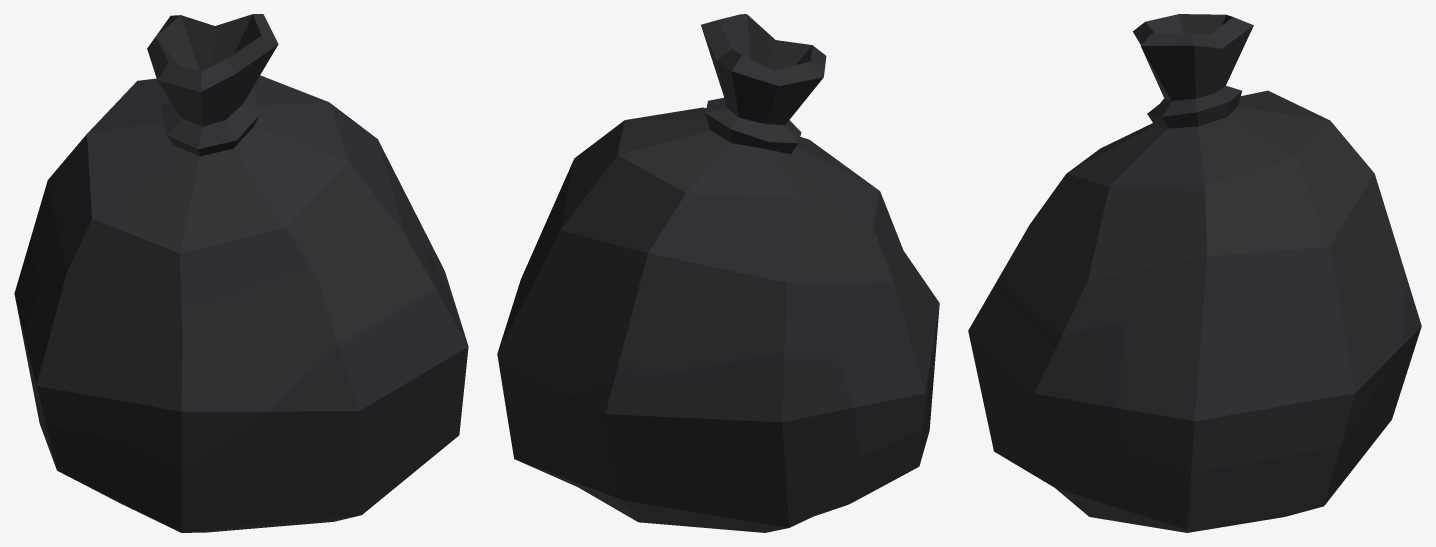
Rendered from SM_Prop_TrashBag_05.obj.
3 views of the same model, side by side, from view 1: azimuth 30°, elevation 25°; view 2: azimuth 150°, elevation 25°; view 3: azimuth 270°, elevation 25° (orthographic). The views are drawn at different scales.
Visible parts, largest first — view 1: SM_Prop_TrashBag_05_0; view 2: SM_Prop_TrashBag_05_0; view 3: SM_Prop_TrashBag_05_0.
Boxes of the visible parts, x1=… form: SM_Prop_TrashBag_05_0: x1=14, y1=14, x2=468, y2=532; SM_Prop_TrashBag_05_0: x1=497, y1=14, x2=939, y2=532; SM_Prop_TrashBag_05_0: x1=968, y1=14, x2=1421, y2=532.
Size of the model in its own units: 0.6733 by 0.7202 by 0.6717.
Materials: 1 (1 with a texture image).
